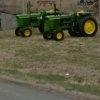Tractor: (12, 2, 100, 44)
